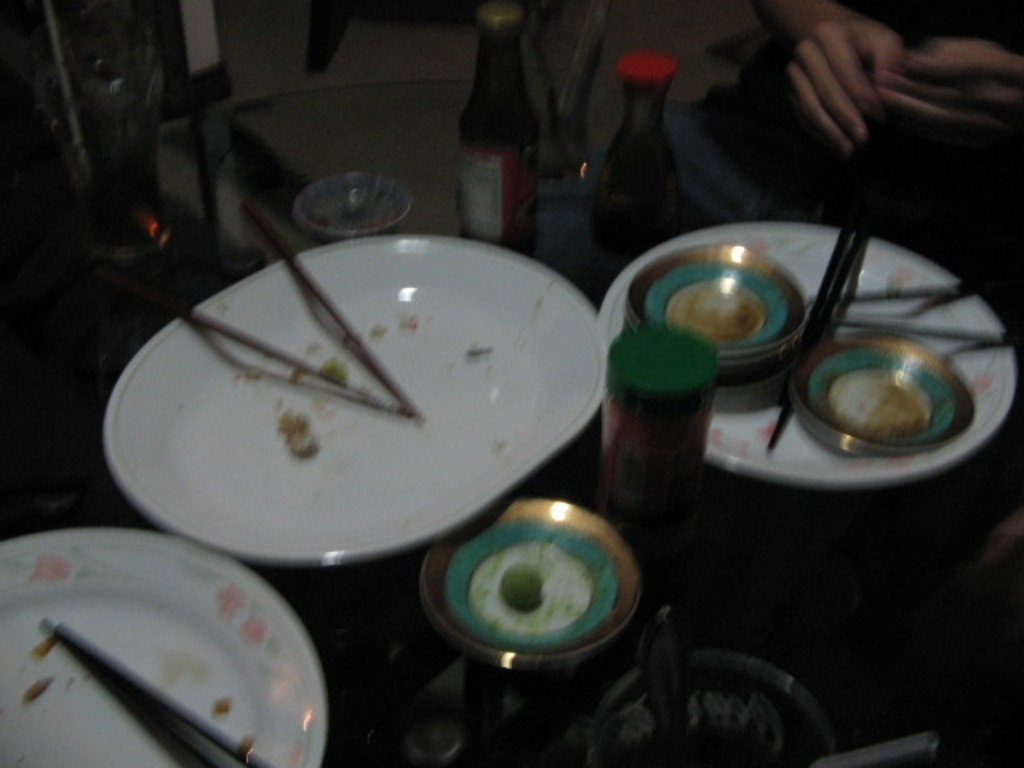plate: (80, 228, 647, 545)
